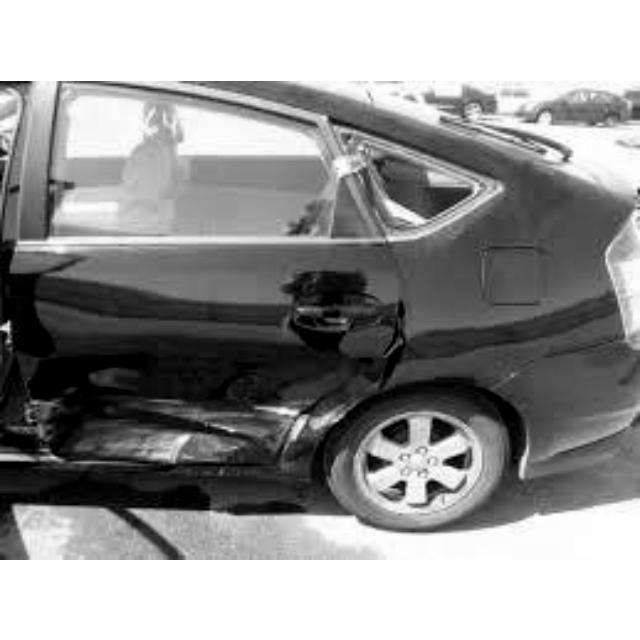doorouter-dent: (10, 227, 346, 476)
